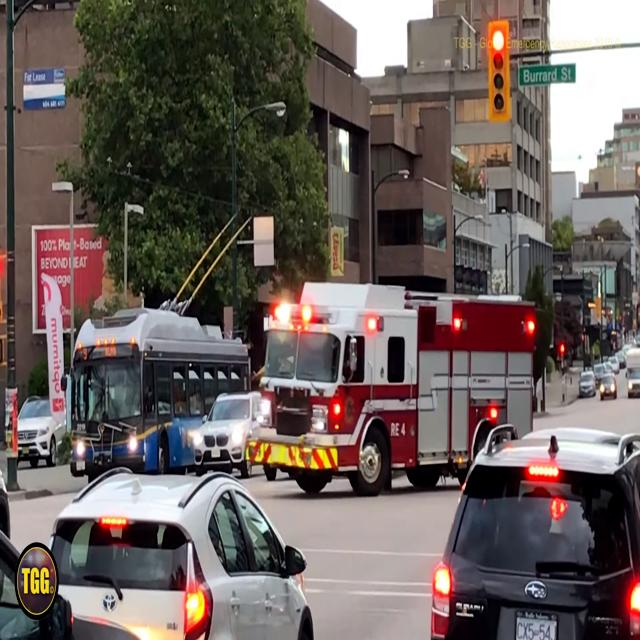emergency-vehicles: (242, 269, 554, 514)
